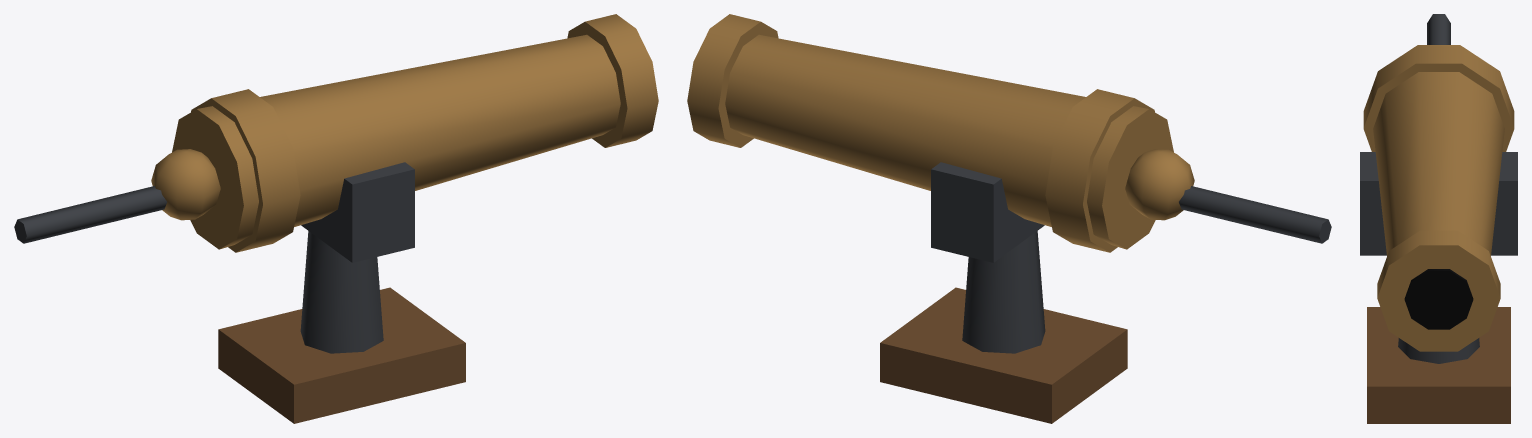
Rendered from mount-falconet.glb.
3 views of the same model, side by side, from view 1: azimuth 30°, elevation 25°; view 2: azimuth 150°, elevation 25°; view 3: azimuth 270°, elevation 25° (orthographic). The views are drawn at different scales.
Parts seen in each view (by area): view 1: Mesh_Barrel, Mesh_Clamp, Mesh_Stanchion, Mesh_Yoke, Mesh_Reinforce, Mesh_MuzzleRing, Mesh_Tiller, Mesh_Cascabel; view 2: Mesh_Barrel, Mesh_Clamp, Mesh_Stanchion, Mesh_Yoke, Mesh_Reinforce, Mesh_MuzzleRing, Mesh_Tiller, Mesh_Cascabel; view 3: Mesh_Barrel, Mesh_Clamp, Mesh_MuzzleRing, Mesh_Reinforce, Mesh_Yoke, Mesh_Bore, Mesh_Stanchion, Mesh_Tiller.
Boxes of the visible parts, x1,y1,x2,y2 form: Mesh_Barrel: (172,34,620,249); Mesh_Clamp: (218,287,465,423); Mesh_Stanchion: (300,231,383,353); Mesh_Yoke: (301,162,414,262); Mesh_Reinforce: (191,89,300,252); Mesh_MuzzleRing: (567,14,658,147); Mesh_Tiller: (14,186,166,243); Mesh_Cascabel: (151,149,220,220); Mesh_Barrel: (725,34,1173,249); Mesh_Clamp: (880,287,1127,423); Mesh_Stanchion: (962,231,1045,353); Mesh_Yoke: (931,162,1044,262); Mesh_Reinforce: (1045,89,1154,252); Mesh_MuzzleRing: (687,14,778,147); Mesh_Tiller: (1179,186,1331,243); Mesh_Cascabel: (1125,149,1194,220); Mesh_Barrel: (1373,45,1504,255); Mesh_Clamp: (1367,307,1510,423); Mesh_MuzzleRing: (1377,230,1500,351); Mesh_Reinforce: (1363,46,1514,151); Mesh_Yoke: (1360,152,1517,255); Mesh_Bore: (1404,269,1473,329); Mesh_Stanchion: (1398,338,1479,363); Mesh_Tiller: (1427,14,1450,44).
Bounding box in the file's own units: 1.95 × 0.9092 × 0.46.
